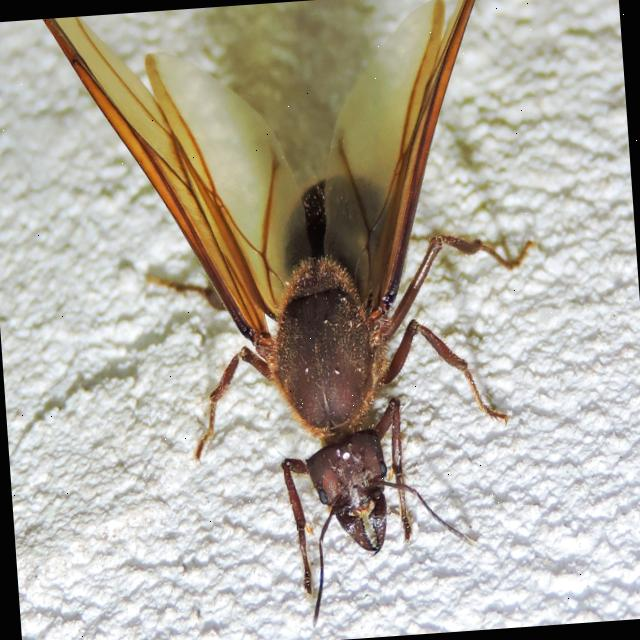Alive-Female-Alate: (39, 0, 564, 616)
